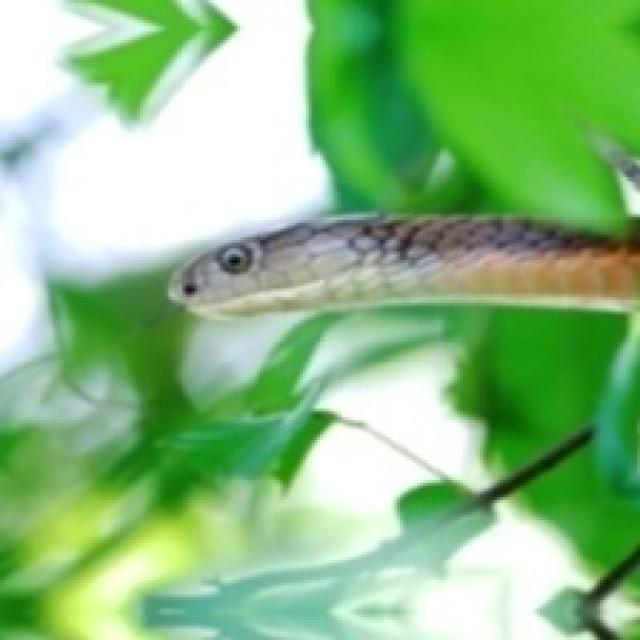king cobra: (169, 217, 637, 314)
